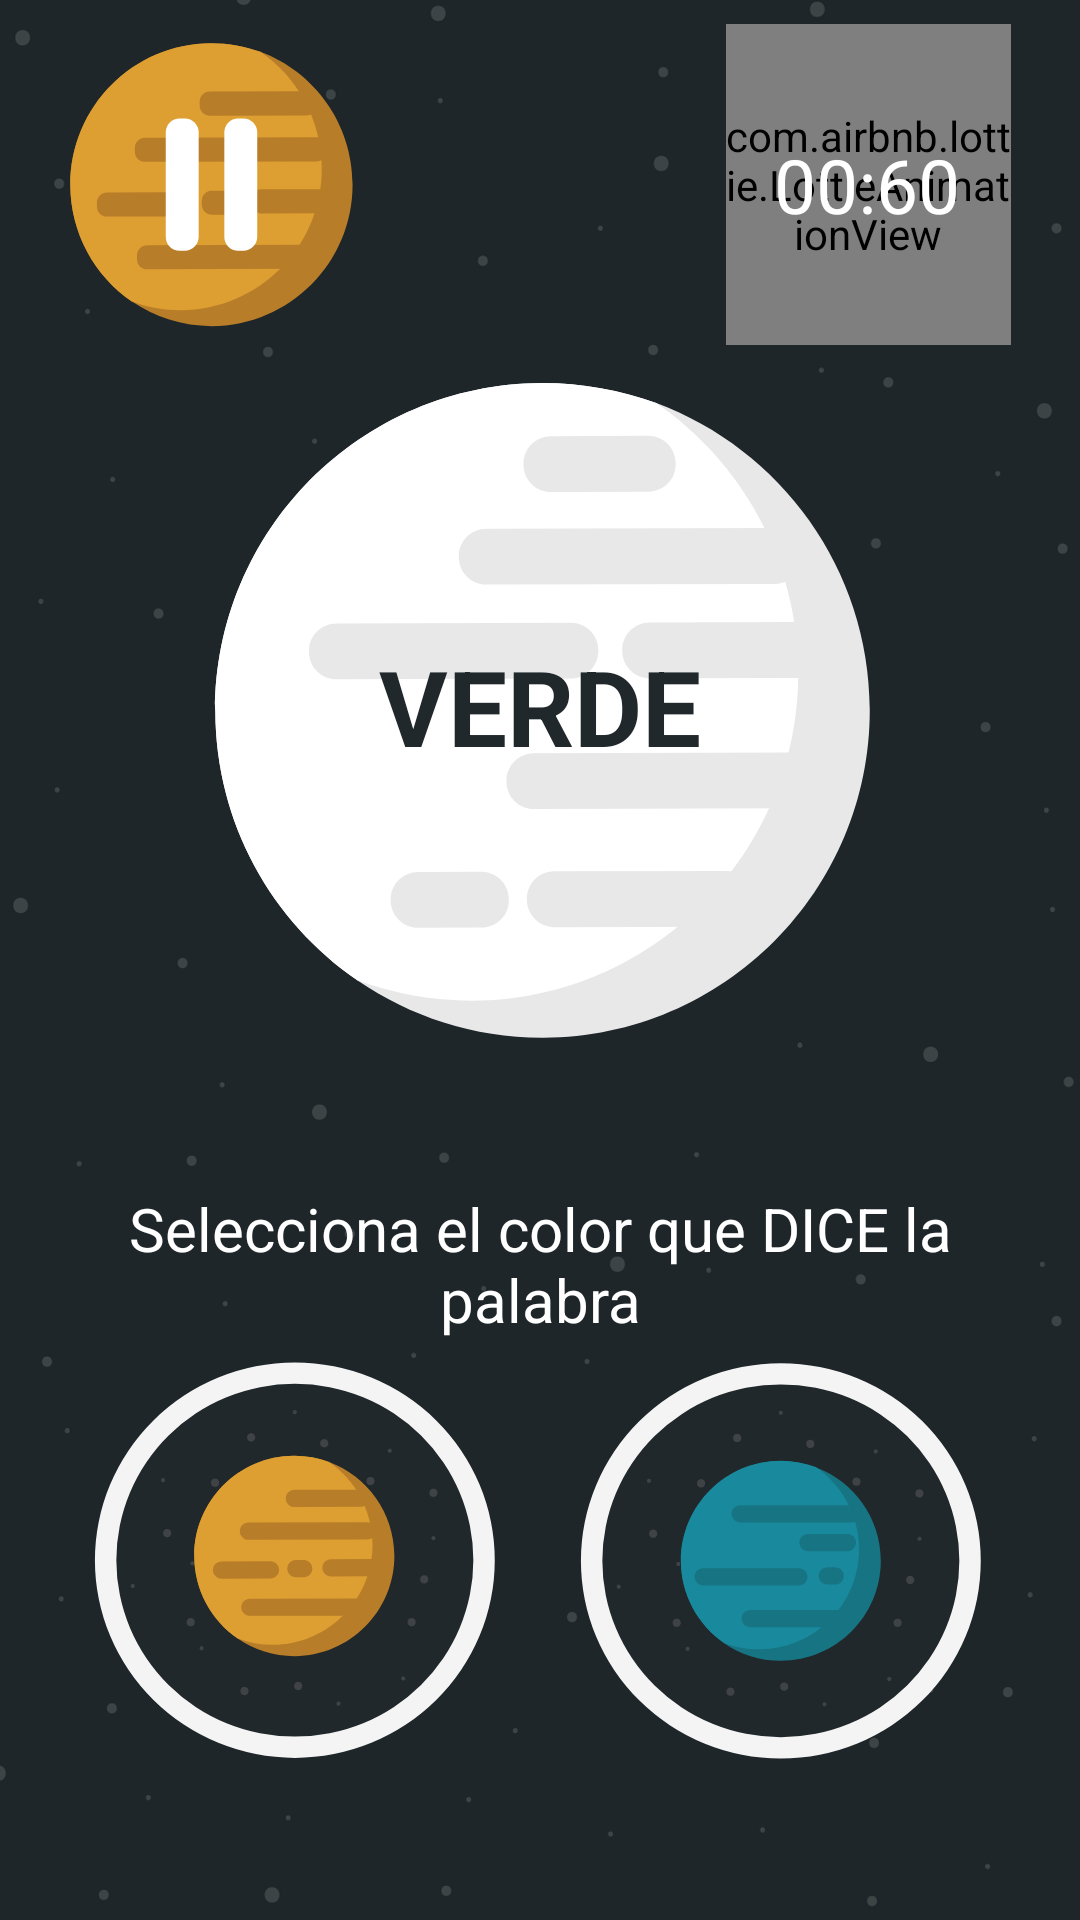

Screen size 1080×1920. Icon name, then its center in pixels as [x,y]:
pausa: [211,185]
